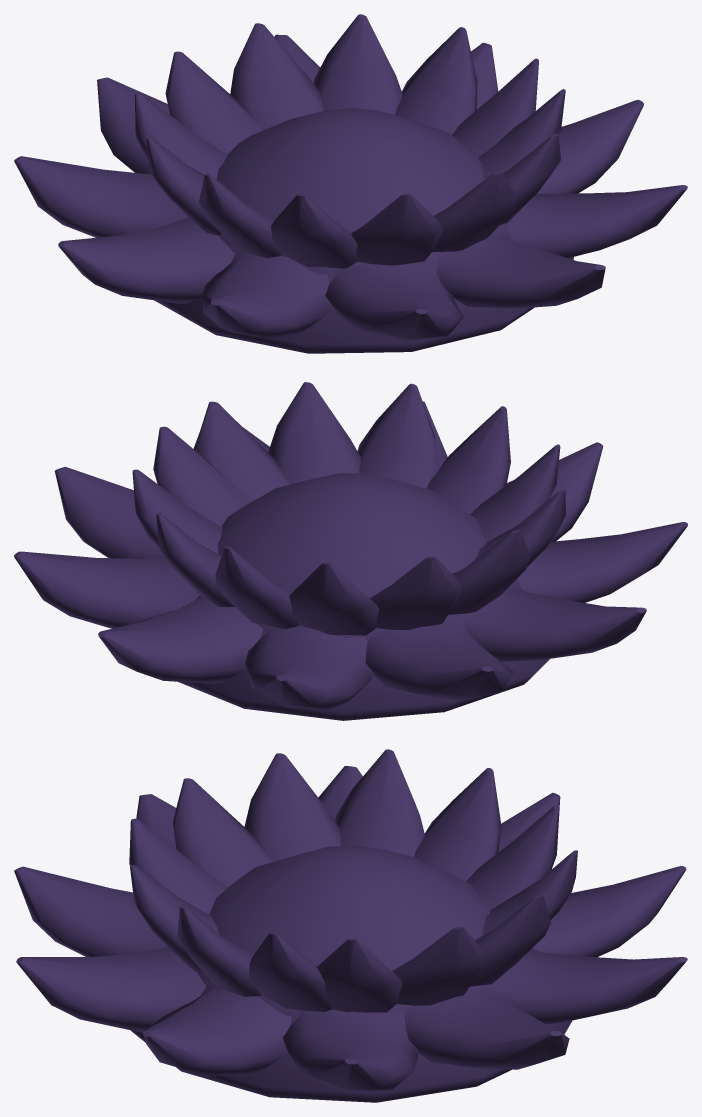
File: AlienFlower_SM.FBX
3 views of the same model, one above another, from view 1: azimuth 30°, elevation 25°; view 2: azimuth 150°, elevation 25°; view 3: azimuth 270°, elevation 25° (orthographic). The views are drawn at different scales.
Visible parts, largest first — view 1: petalwholeSM; view 2: petalwholeSM; view 3: petalwholeSM.
Boxes of the visible parts, box(x1,y1,x2,y2) form: petalwholeSM: box(14, 14, 687, 353); petalwholeSM: box(14, 382, 687, 720); petalwholeSM: box(14, 749, 687, 1102).
Bounding box in the file's own units: 40.27 × 10.36 × 38.44.
